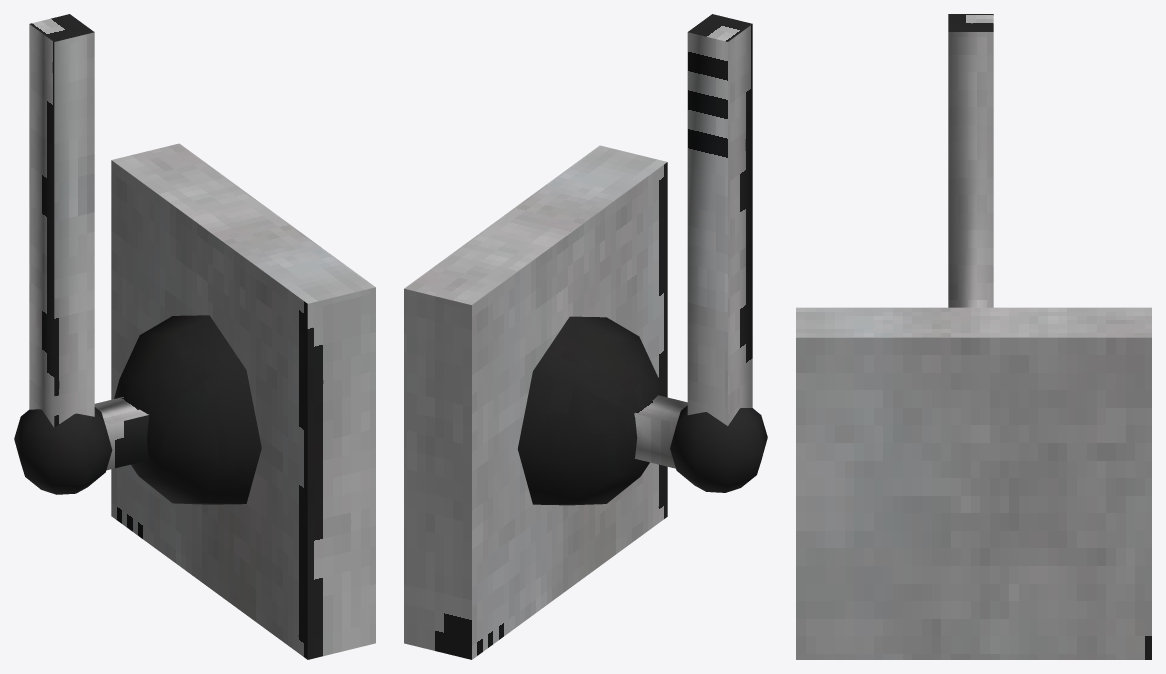
Rendered from Gun2.fbx.
3 renders of one model, left to right at view 1: azimuth 30°, elevation 25°; view 2: azimuth 150°, elevation 25°; view 3: azimuth 270°, elevation 25°, orthographic. The views are drawn at different scales.
Visible parts, largest first — view 1: Cube.021; view 2: Cube.021; view 3: Cube.021.
Part boxes in pixels (x1,y1,x2,y2): Cube.021: (14, 14, 375, 659); Cube.021: (404, 14, 767, 659); Cube.021: (796, 14, 1151, 659).
Bounding box in the file's own units: 38.22 × 83.91 × 50.
